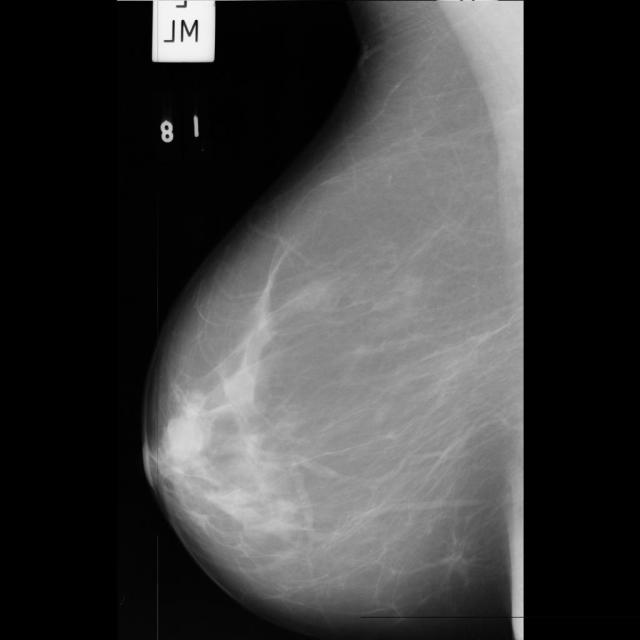tumour: (434, 544, 472, 574)
